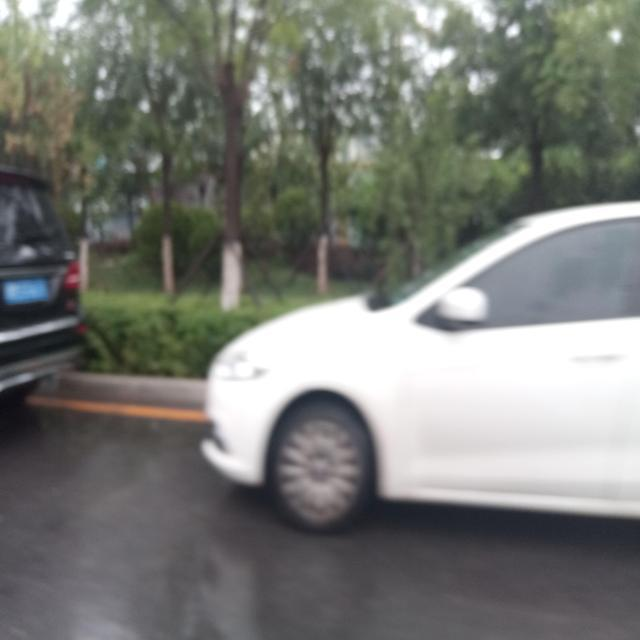car: (200, 201, 640, 533), (1, 164, 84, 402)
